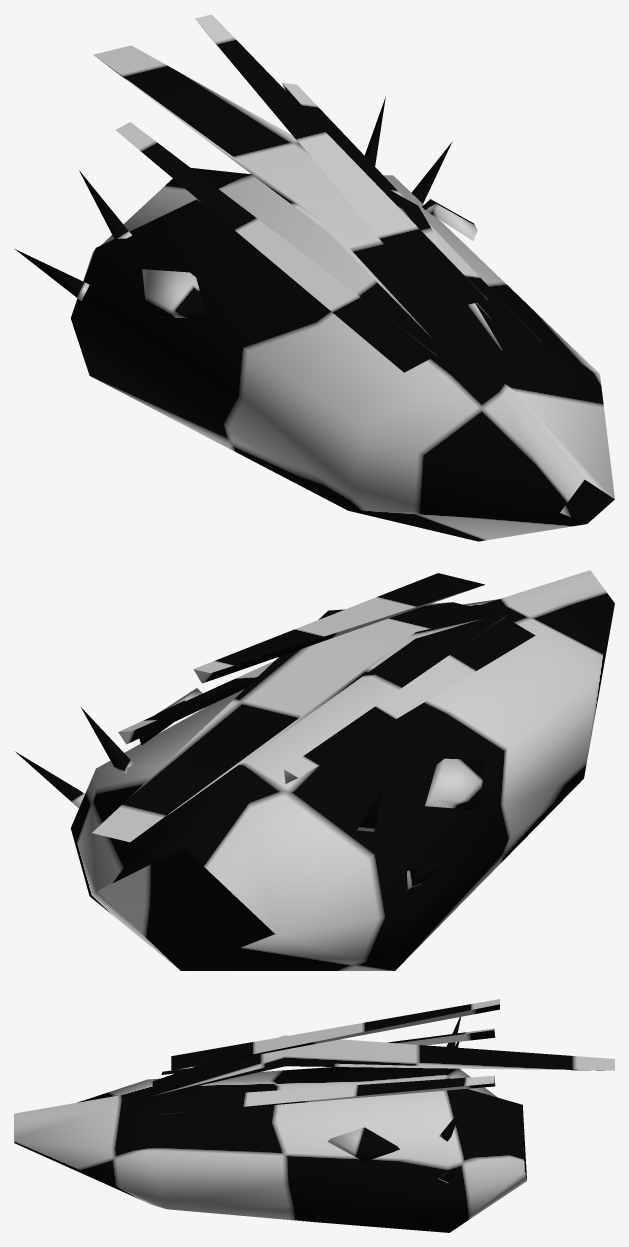
The model's file is drone_flax_3.obj.
3 views of the same model, one above another, from view 1: azimuth 30°, elevation 25°; view 2: azimuth 150°, elevation 25°; view 3: azimuth 270°, elevation 25° (orthographic). The views are drawn at different scales.
Parts seen in each view (by area): view 1: main; view 2: main; view 3: main.
Boxes of the visible parts, x1,y1,x2,y2 form: main: (15,14,614,541); main: (15,570,614,970); main: (14,999,614,1232).
Bounding box in the file's own units: 13.24 × 10.09 × 24.94.
Materials: 1 (1 with a texture image).
